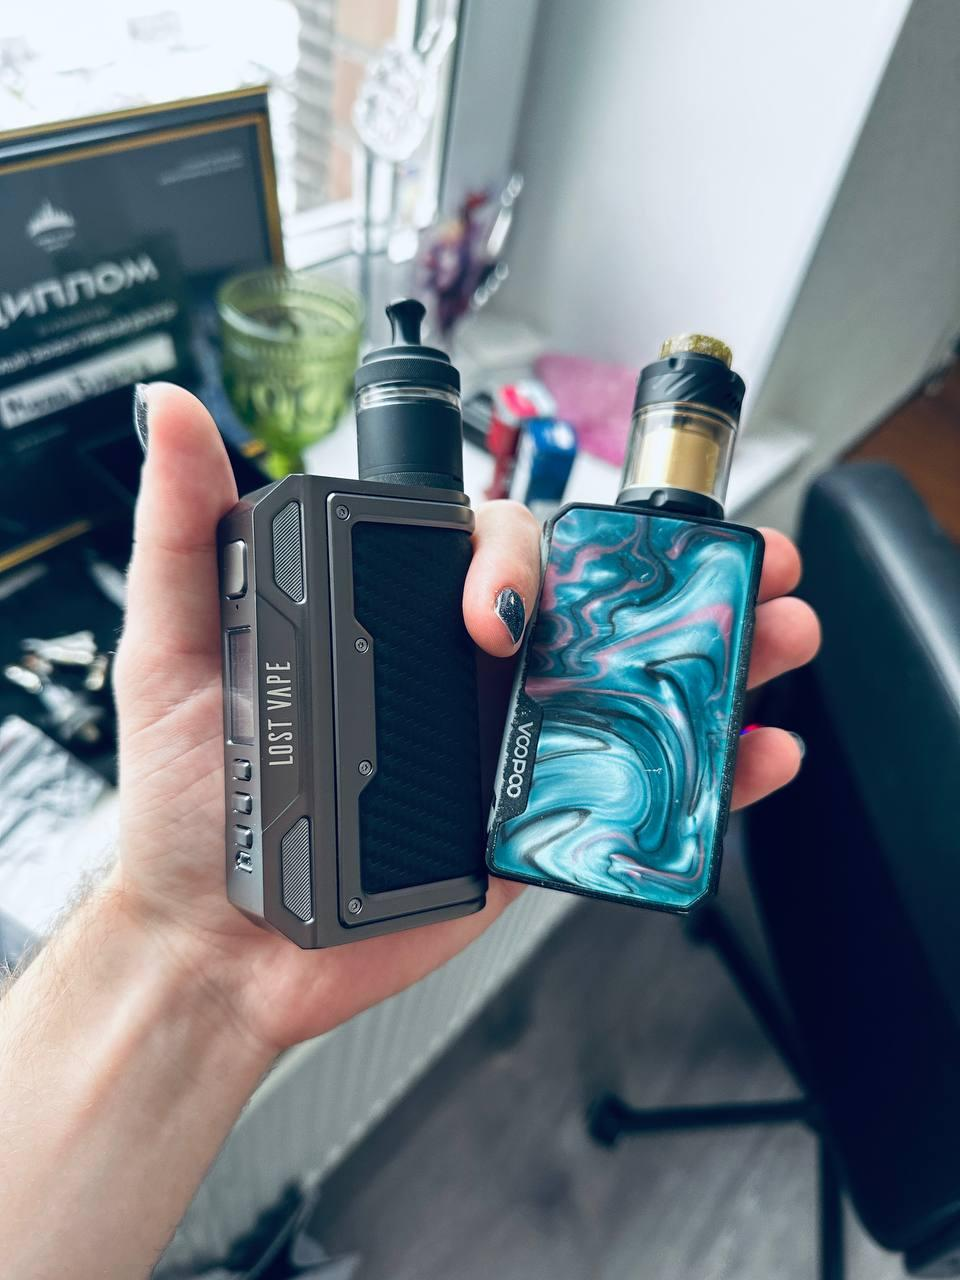Vape: (218, 302, 487, 950), (488, 335, 764, 914)
